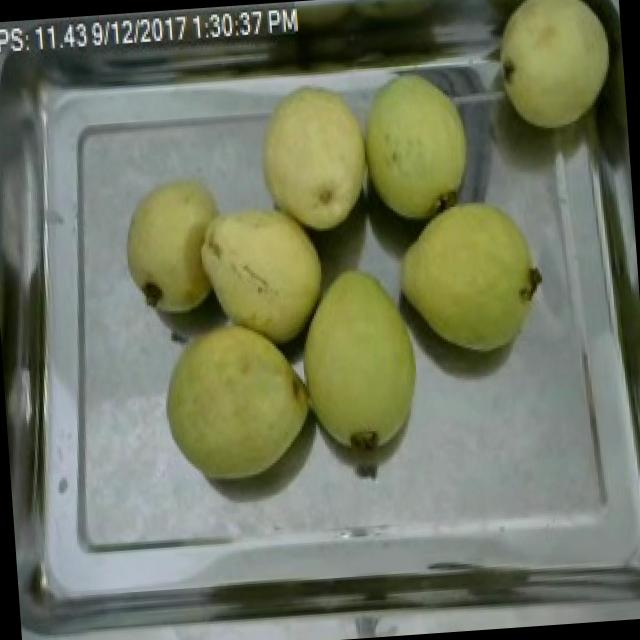Fruit: (154, 311, 322, 492), (383, 186, 552, 364), (286, 258, 432, 461), (190, 193, 336, 356), (248, 71, 374, 248), (356, 58, 482, 232), (485, 0, 623, 138), (116, 168, 236, 326)
